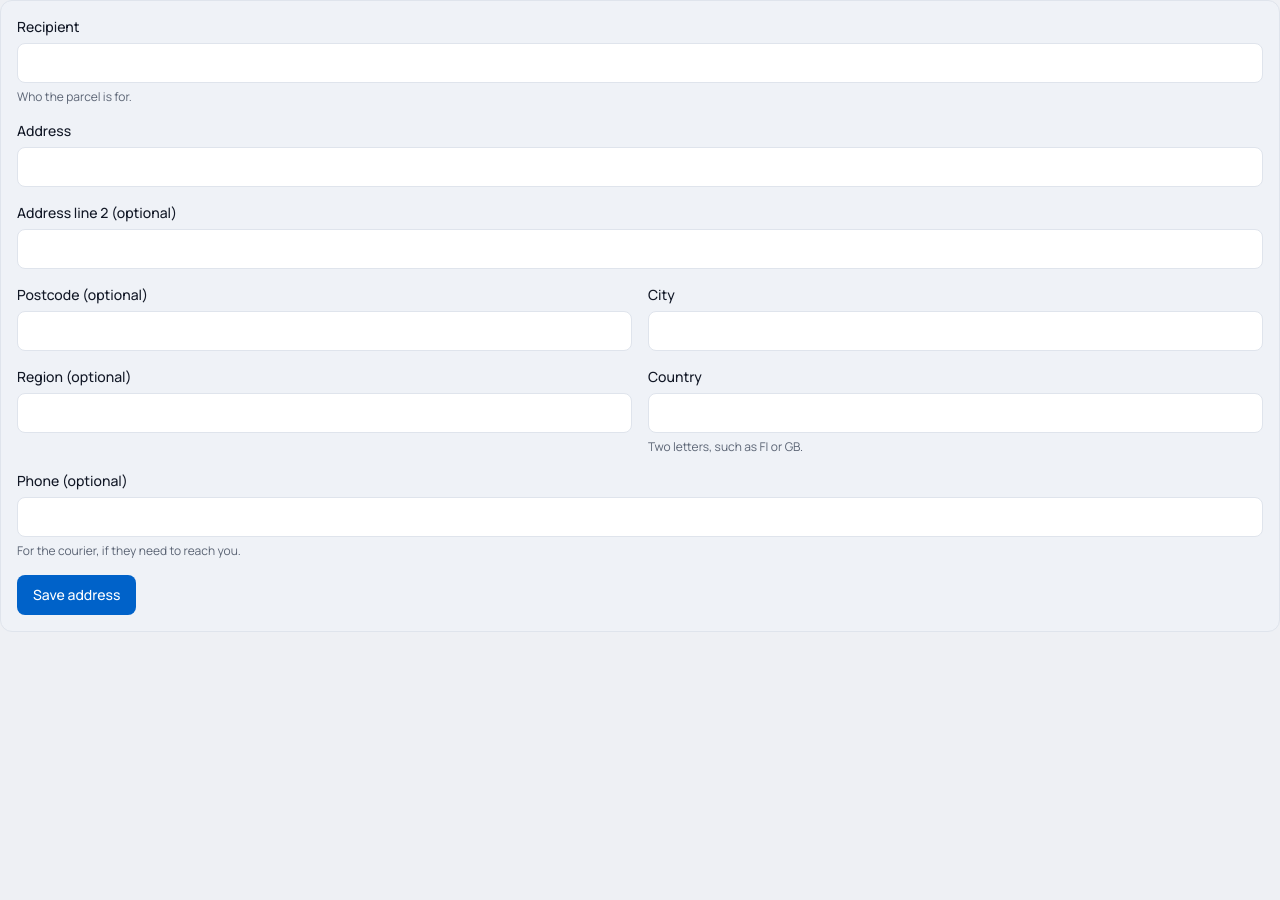
Scenario: AddressForm › shows the API's refusal beside the field it is about
The image size is (1280, 900).
In the field labelled "Recipient": coordinates (640, 63) [17,43,1263,83], type "Aino Virtanen"
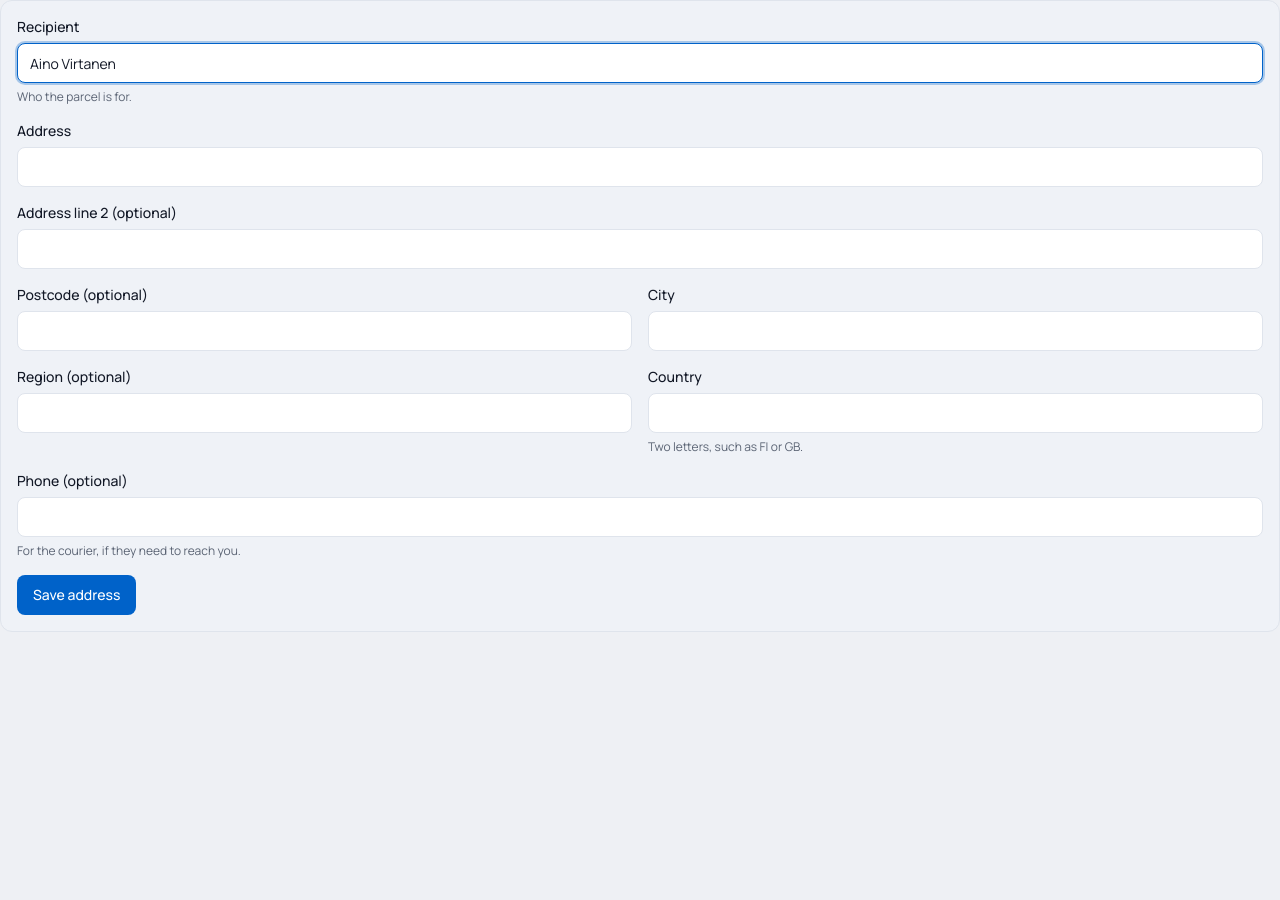
In the field labelled "Address": coordinates (640, 167) [17,147,1263,187], type "Mannerheimintie 12 A 4"
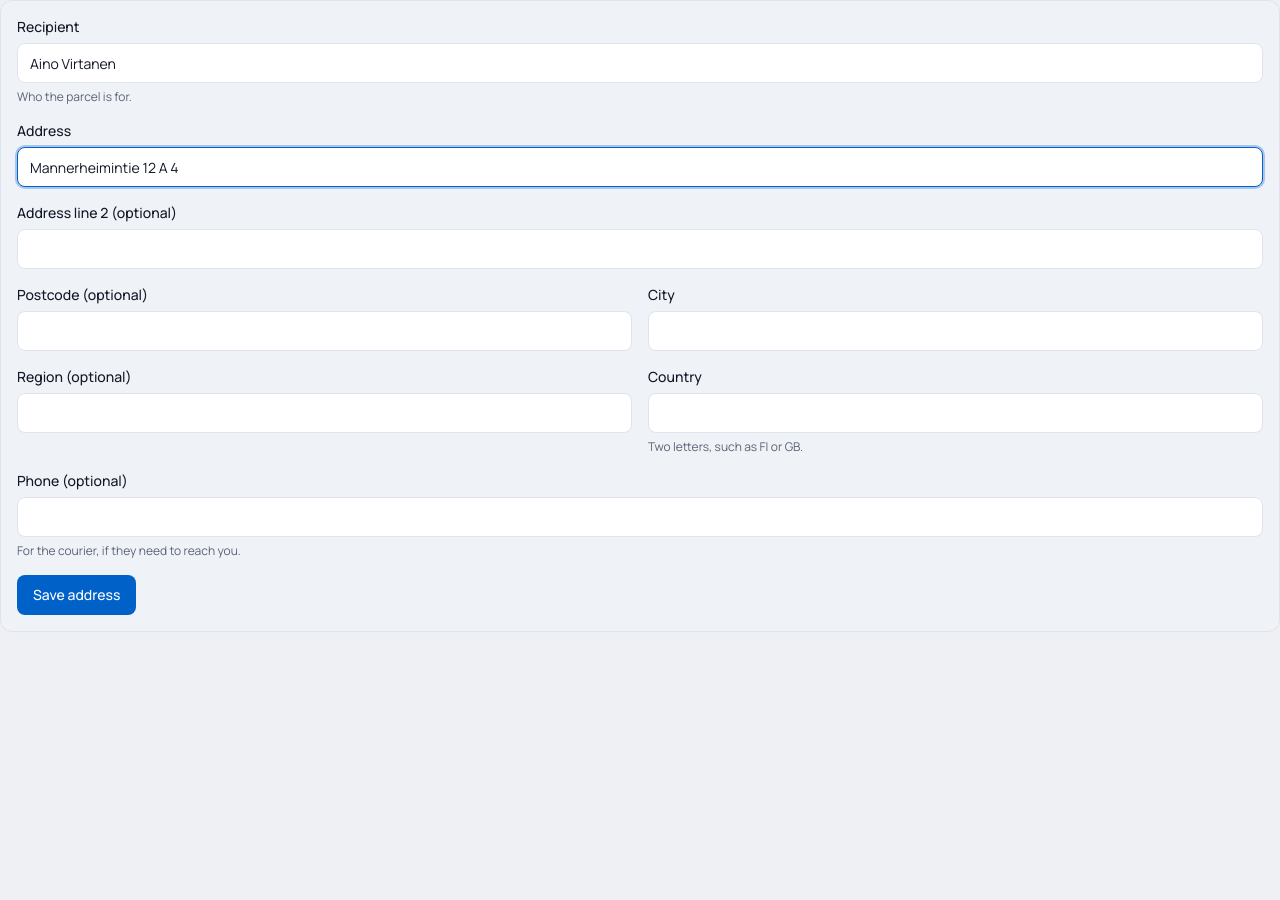
In the field labelled "City": coordinates (956, 331) [648,311,1263,351], type "Helsinki"
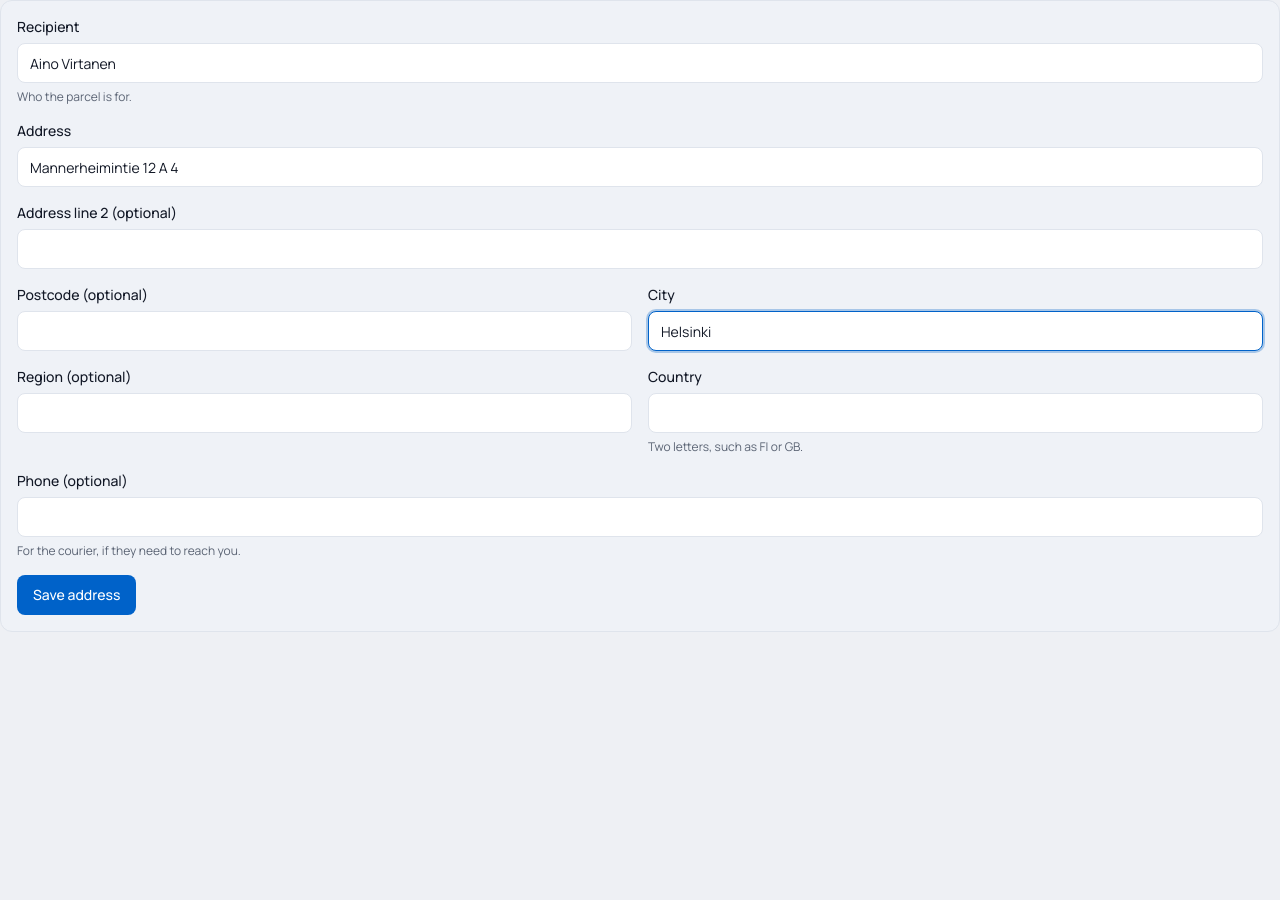
In the field labelled "Country": coordinates (956, 413) [648,393,1263,433], type "FI"
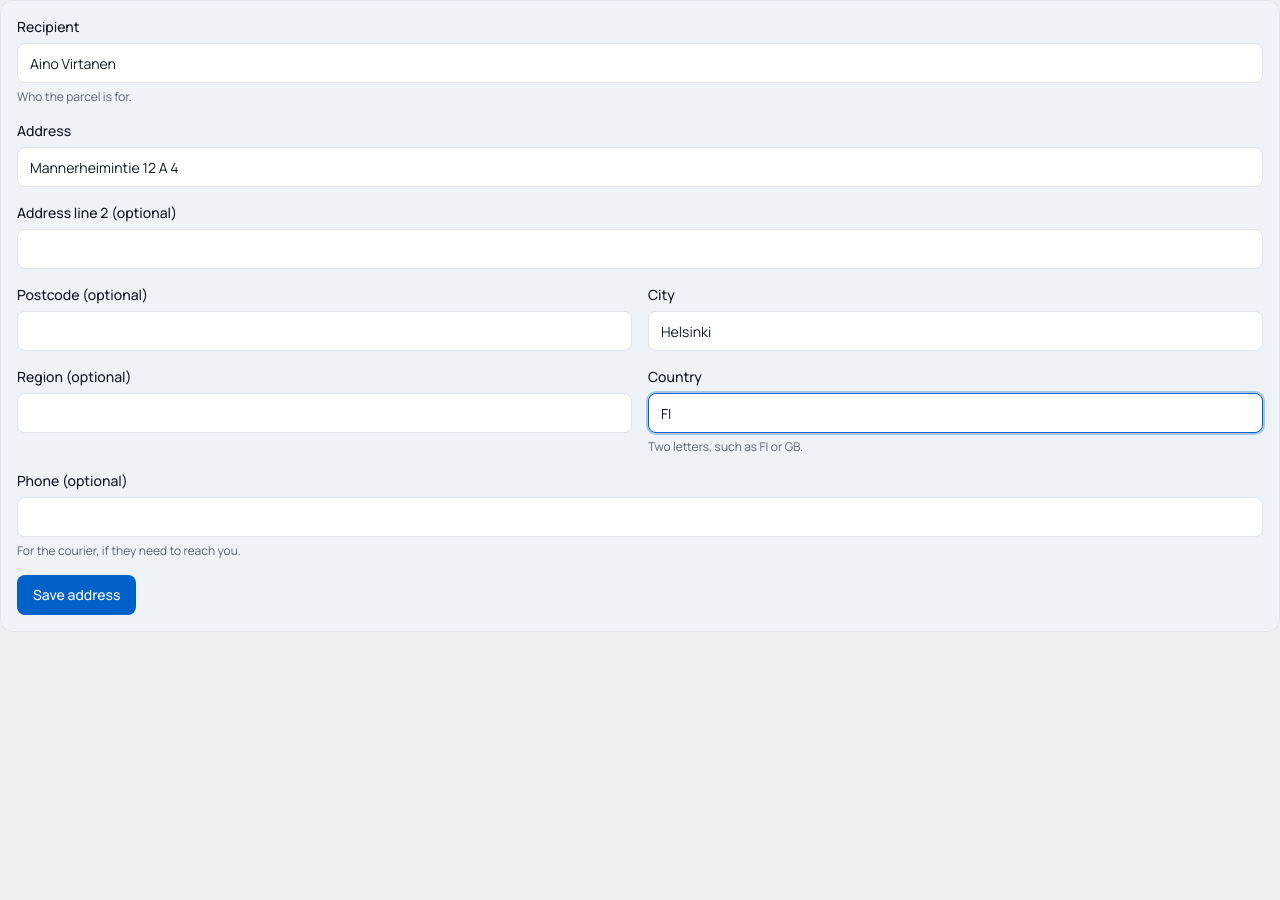
Click the button "Save address": coordinates (77, 595) [17,575,136,615]
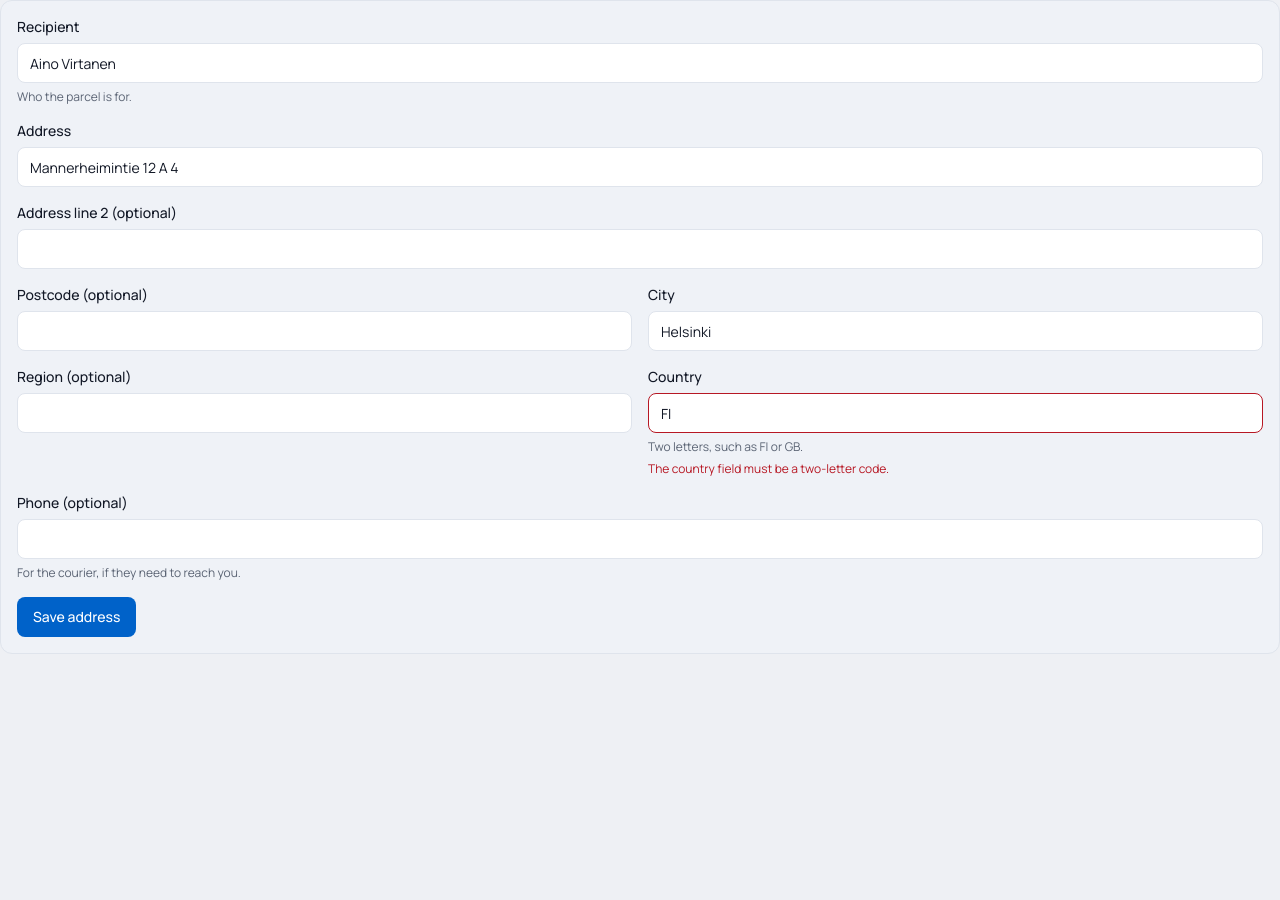
Now the list item "The country field must be a two-letter code." is shown, box [648,460,889,477]
